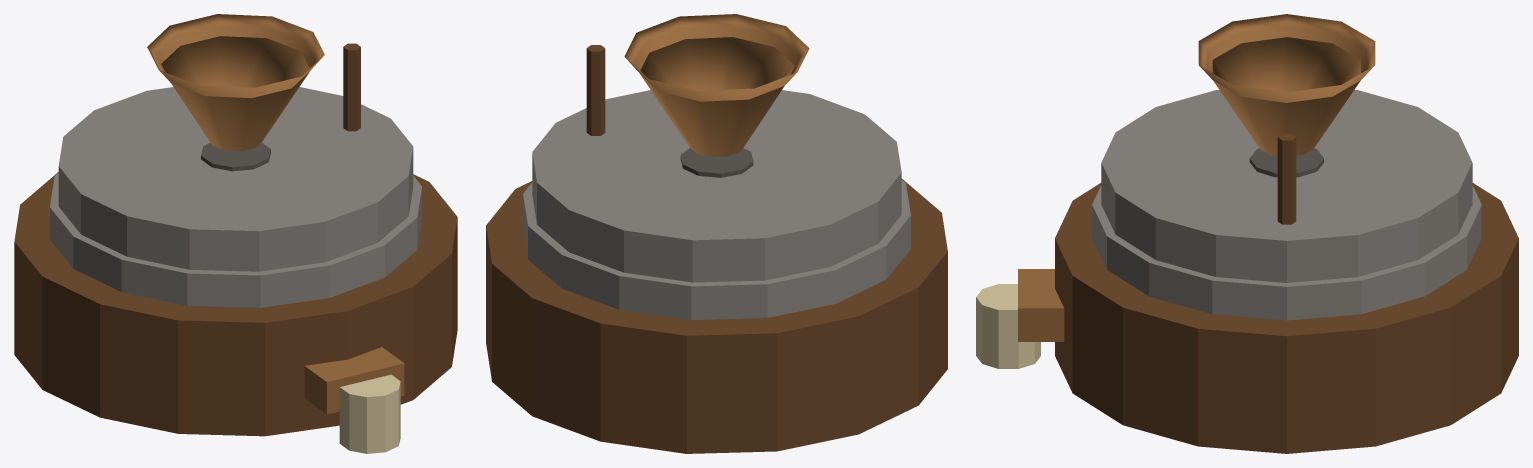
Rendered from Mill@Run.fbx.
3 views of the same model, side by side, from view 1: azimuth 30°, elevation 25°; view 2: azimuth 150°, elevation 25°; view 3: azimuth 270°, elevation 25° (orthographic). The views are drawn at different scales.
Parts seen in each view (by area): view 1: Mill_Body, Mill_TopStone; view 2: Mill_Body, Mill_TopStone; view 3: Mill_Body, Mill_TopStone.
Part boxes in pixels (bbox=[...]): Mill_Body: bbox=[14, 172, 457, 453]; Mill_TopStone: bbox=[58, 14, 413, 271]; Mill_Body: bbox=[486, 178, 947, 453]; Mill_TopStone: bbox=[532, 14, 901, 282]; Mill_Body: bbox=[976, 183, 1518, 453]; Mill_TopStone: bbox=[1101, 14, 1472, 282].
Size of the model in its own units: 1 by 0.72 by 1.17.
